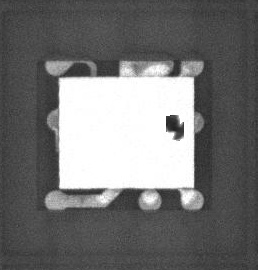DIE_INK: (166, 115, 186, 142)
